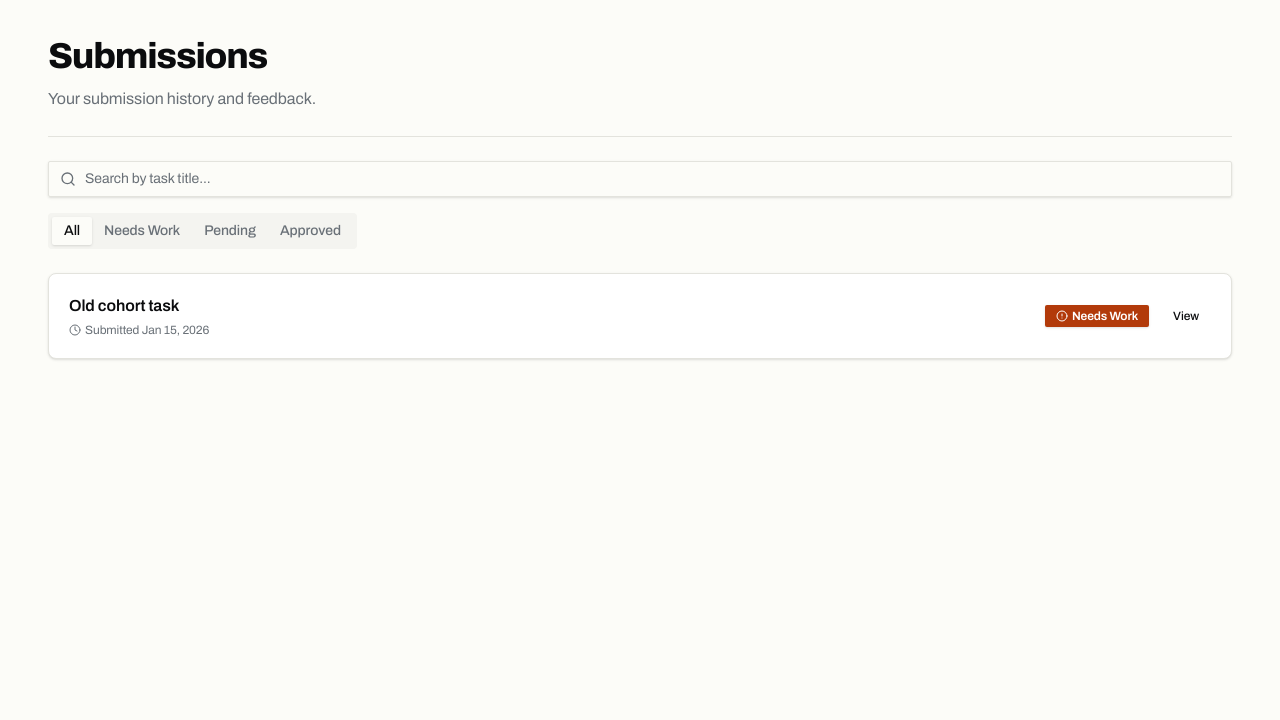
Test: student submissions page › closes resubmitting for ended-cohort work when the student has no current cohort
The width and height of the screenshot is (1280, 720).
Click the text "Old cohort task" at (124, 305), box [69,297,179,314]
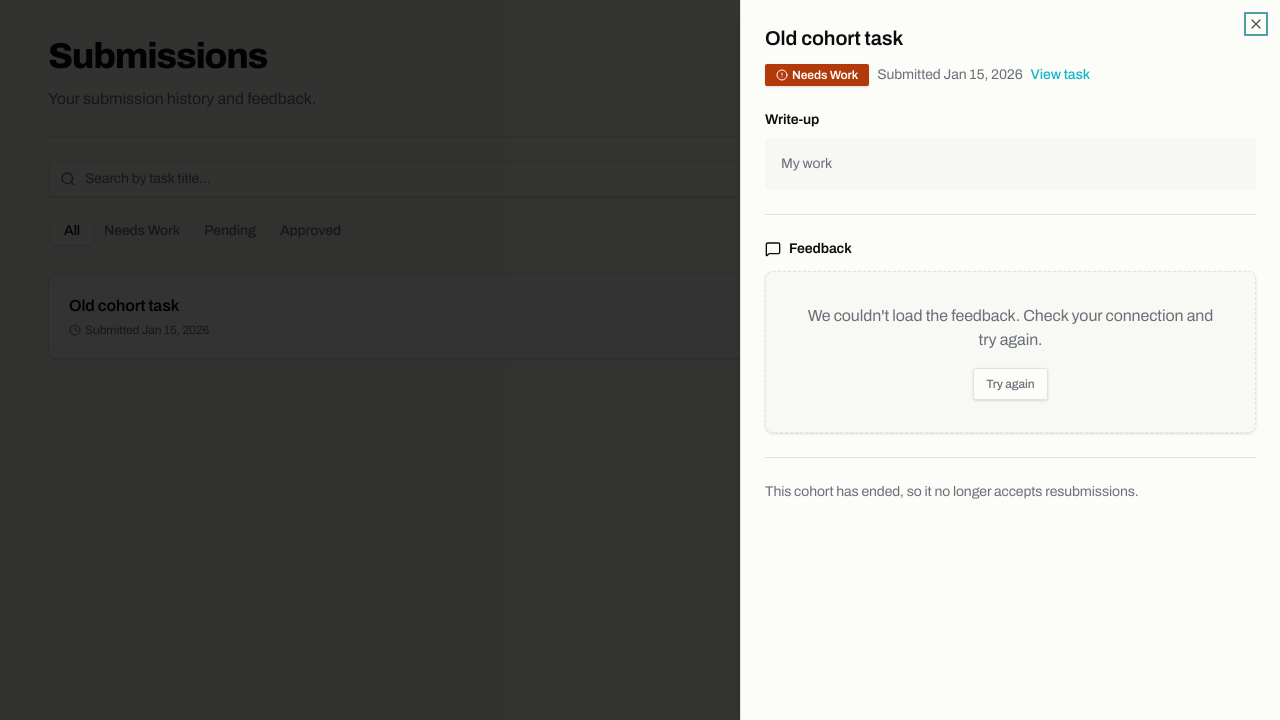
Result: the text "This cohort has ended, so it no longer accepts resubmissions." is shown at [765,484,1138,499]
